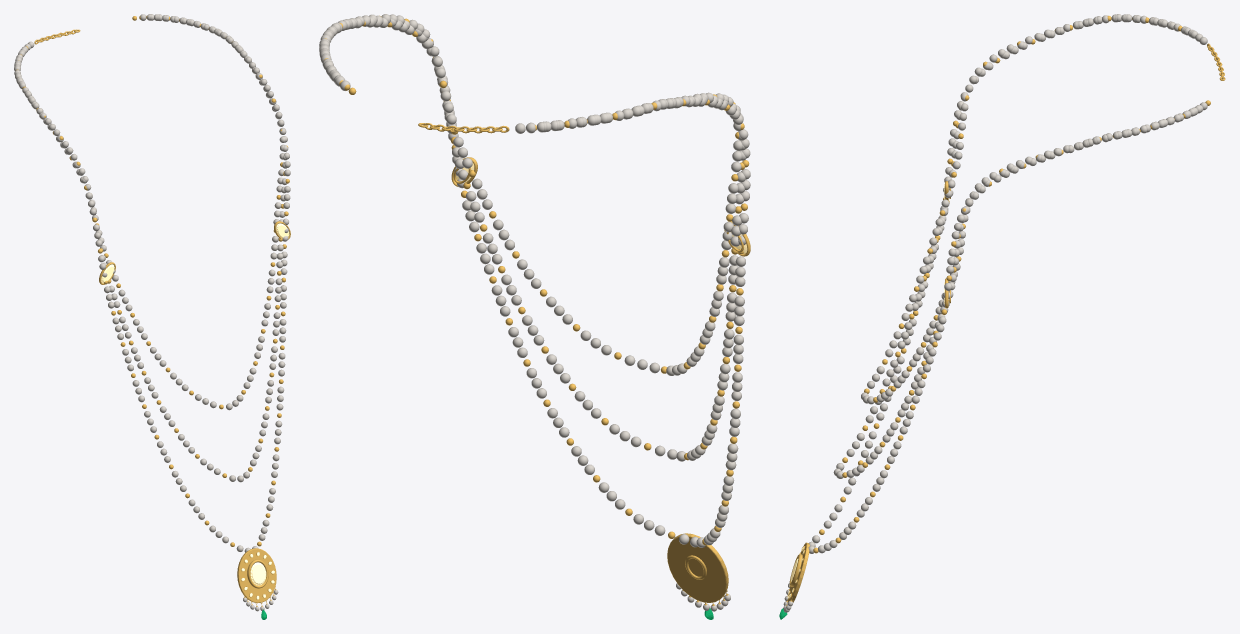
File: rani-haar.glb
3 views of the same model, side by side, from view 1: azimuth 30°, elevation 25°; view 2: azimuth 150°, elevation 25°; view 3: azimuth 270°, elevation 25° (orthographic). The views are drawn at different scales.
Parts seen in each view (by area): view 1: rani-haar_pearl, rani-haar_gold22k, rani-haar_kundan; view 2: rani-haar_pearl, rani-haar_gold22k; view 3: rani-haar_pearl, rani-haar_gold22k.
Part boxes in pixels (<box>): rani-haar_pearl: <box>14,14,290,611</box>; rani-haar_gold22k: <box>16,16,290,606</box>; rani-haar_kundan: <box>101,223,289,599</box>; rani-haar_pearl: <box>319,14,750,611</box>; rani-haar_gold22k: <box>324,15,750,605</box>; rani-haar_pearl: <box>783,14,1207,612</box>; rani-haar_gold22k: <box>786,15,1225,605</box>.
Size of the model in its own units: 12.33 by 25.37 by 18.65.
